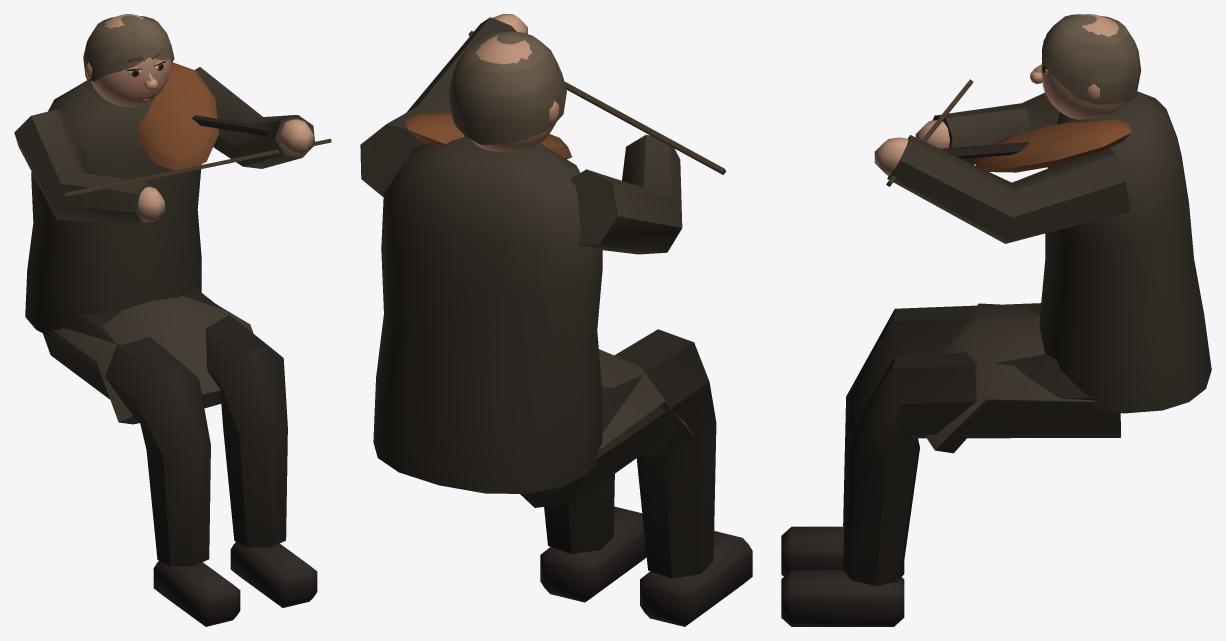
Rendered from ph_chr_fiddler.glb.
3 views of the same model, side by side, from view 1: azimuth 30°, elevation 25°; view 2: azimuth 150°, elevation 25°; view 3: azimuth 270°, elevation 25° (orthographic). The views are drawn at different scales.
Visible parts, largest first — view 1: ph_chr_fiddler, bow; view 2: ph_chr_fiddler, bow; view 3: ph_chr_fiddler, bow.
Boxes of the visible parts, x1=… form: ph_chr_fiddler: x1=25, y1=14, x2=317, y2=626; bow: x1=14, y1=109, x2=331, y2=225; ph_chr_fiddler: x1=360, y1=14, x2=752, y2=626; bow: x1=468, y1=30, x2=726, y2=254; ph_chr_fiddler: x1=781, y1=14, x2=1211, y2=626; bow: x1=886, y1=79, x2=1059, y2=186.
Size of the model in its own units: 0.6047 by 1.25 by 0.84.
